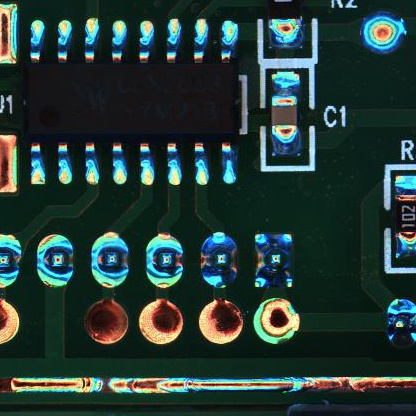spot: (90, 231, 130, 291), (144, 231, 184, 290), (254, 231, 293, 291), (35, 233, 75, 288), (200, 232, 237, 291), (361, 14, 407, 59), (387, 298, 416, 349), (1, 232, 21, 288)
